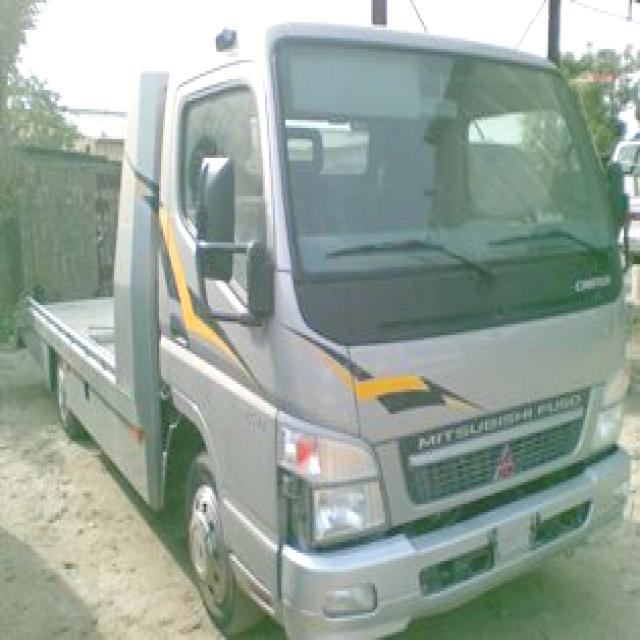truck: (23, 18, 631, 639)
